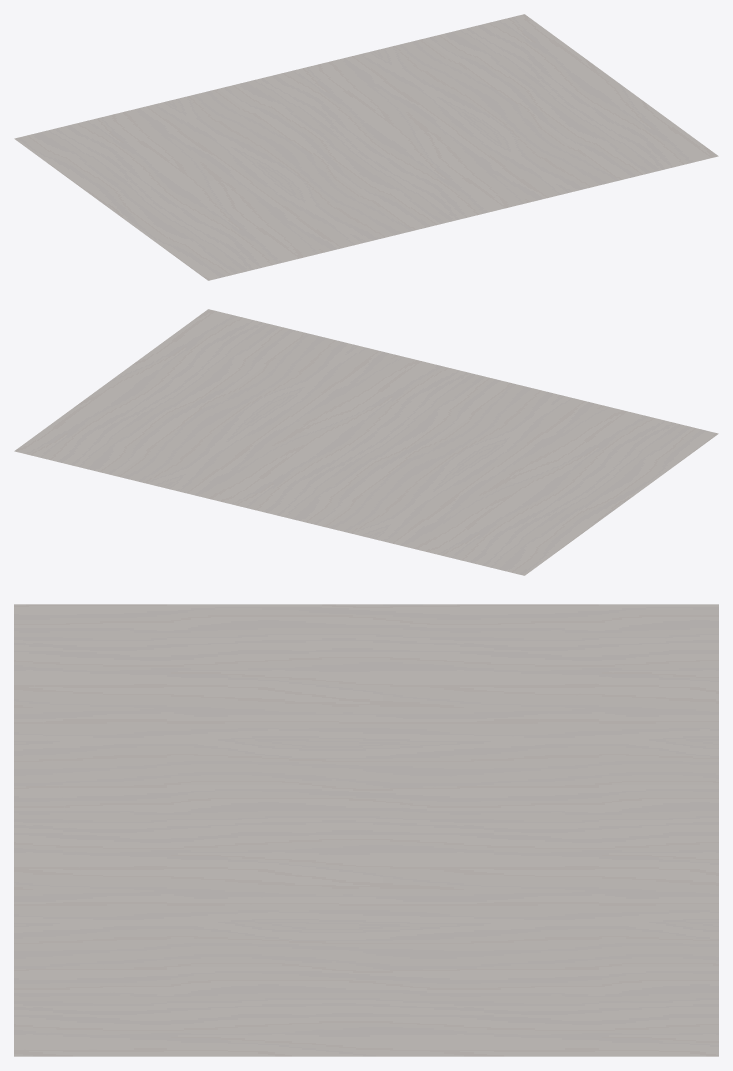
Rendered from kd_stage_135ded_4_85_exterior_piece_3.glb.
3 renders of one model, top to bottom at view 1: azimuth 30°, elevation 25°; view 2: azimuth 150°, elevation 25°; view 3: azimuth 270°, elevation 25°, orthographic. The views are drawn at different scales.
Visible parts, largest first — view 1: kd_stage_135ded_4_85_exterior_piece_3; view 2: kd_stage_135ded_4_85_exterior_piece_3; view 3: kd_stage_135ded_4_85_exterior_piece_3.
Boxes of the visible parts, bbox=[...] form: kd_stage_135ded_4_85_exterior_piece_3: bbox=[14, 14, 718, 280]; kd_stage_135ded_4_85_exterior_piece_3: bbox=[14, 309, 718, 575]; kd_stage_135ded_4_85_exterior_piece_3: bbox=[14, 604, 718, 1056].
Bounding box in the file's own units: 1.06 × 3.35e-08 × 0.7.
Materials: 1 (1 with a texture image).
